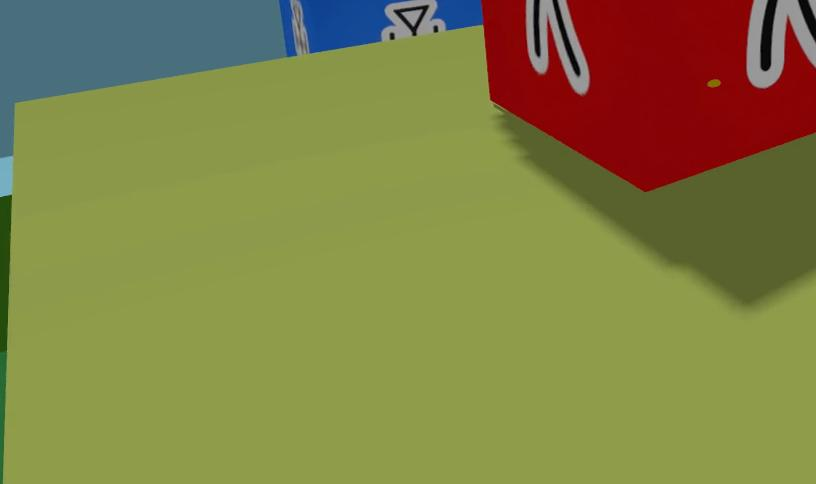KFS_FAKE: (481, 0, 816, 190), (746, 0, 816, 88), (526, 0, 589, 94)
KFS_REAL: (278, 0, 481, 55), (279, 0, 481, 55), (382, 0, 447, 40), (291, 0, 308, 54)
